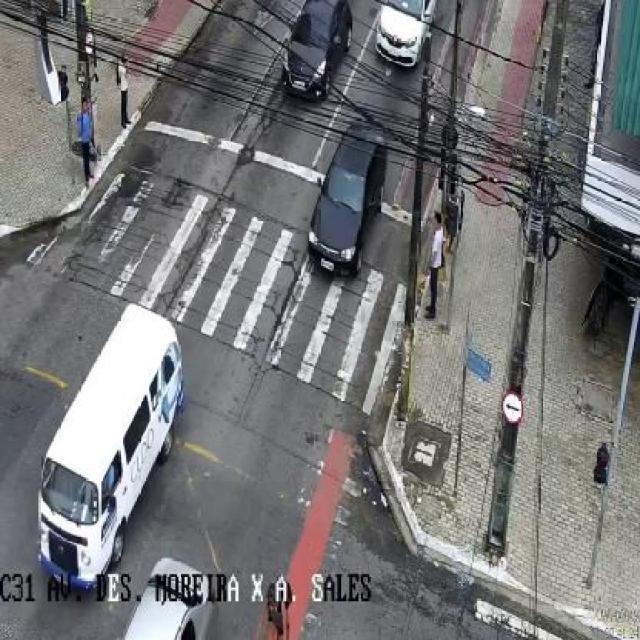Bus: (22, 296, 198, 586)
Car: (303, 112, 401, 278), (125, 544, 240, 640), (266, 0, 358, 102), (360, 0, 441, 74)
